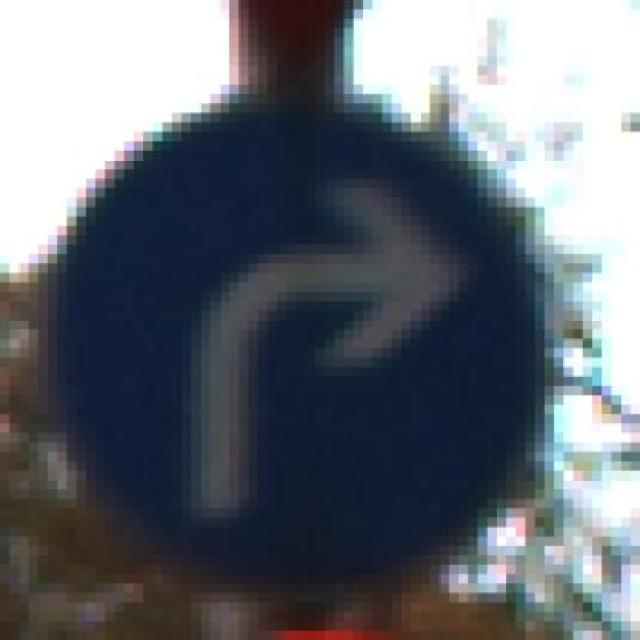Turn right ahead: (38, 104, 554, 593)
